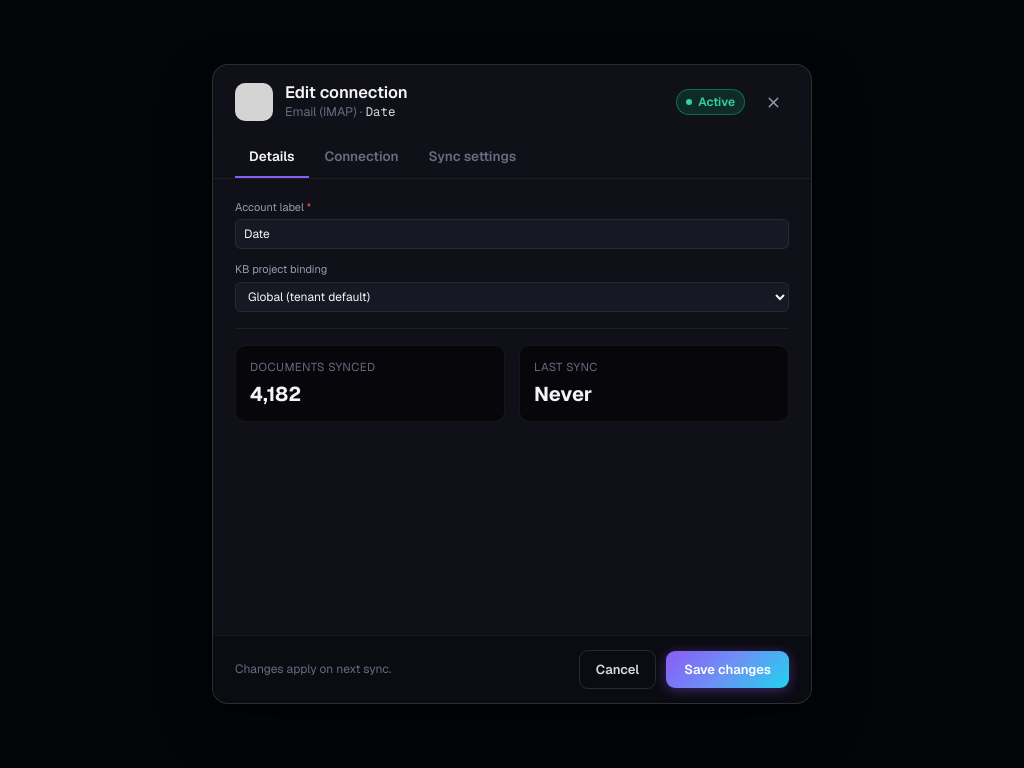
Test: AccountEditModal › keeps the modal open and shows the error in the tab body when a save fails
The image size is (1024, 768).
Click the button with test id "connector-account-7-edit-save".
click(728, 669)  # box [666,650,789,688]
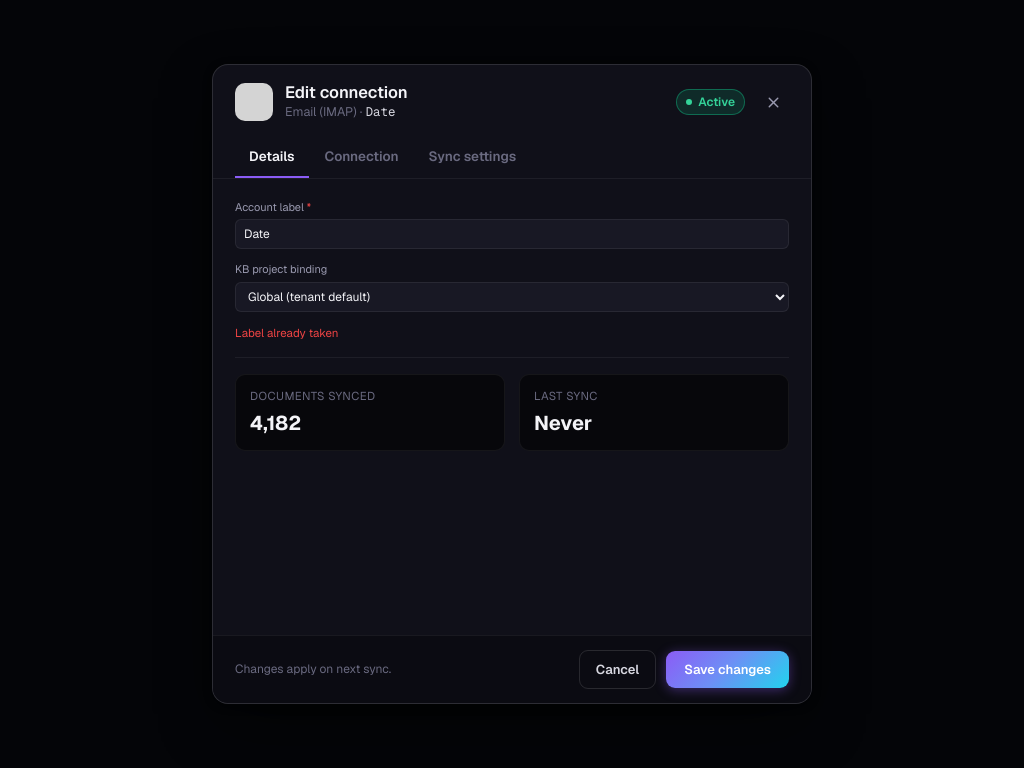
Check: the message with test id "connector-imap-account-form-error" reads "Label already taken", box [235,325,338,340]
